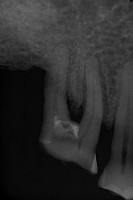Endo-Periodontal Lesion: (66, 93, 84, 126)
